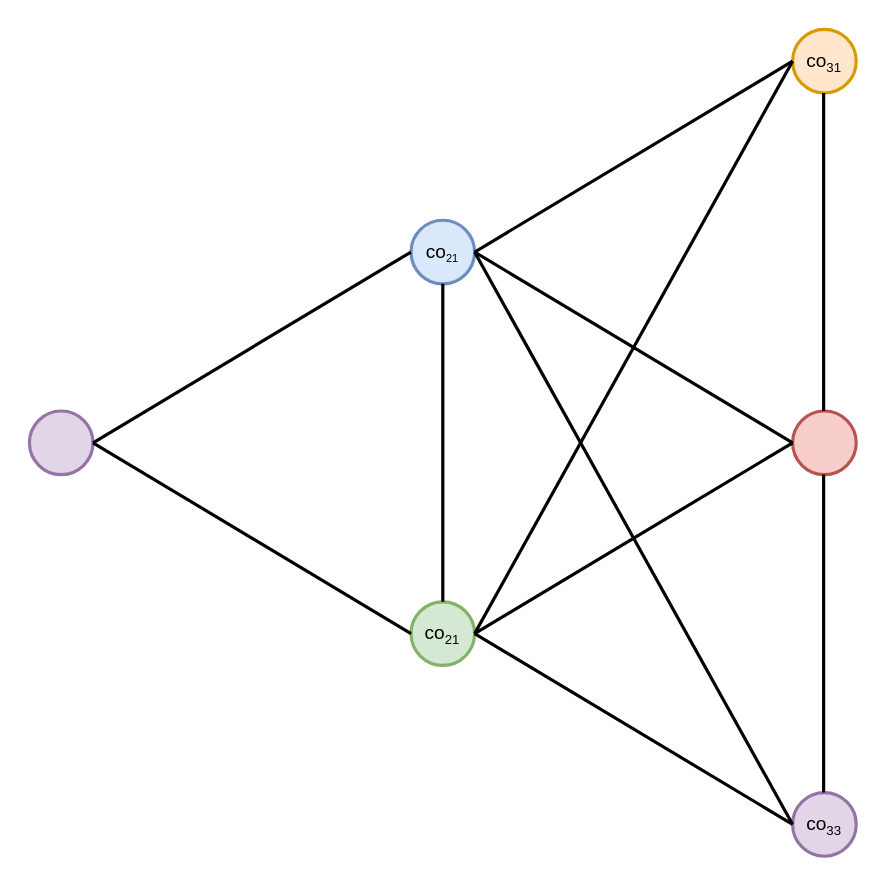
This 884x884 diagram has some shape labels left out. The shapes that lost their labels are listed below. From the top down, each one's centre as x and y in pixels, then its label:
At pixel 60 442: "co 12".
At pixel 823 442: "co 32".
